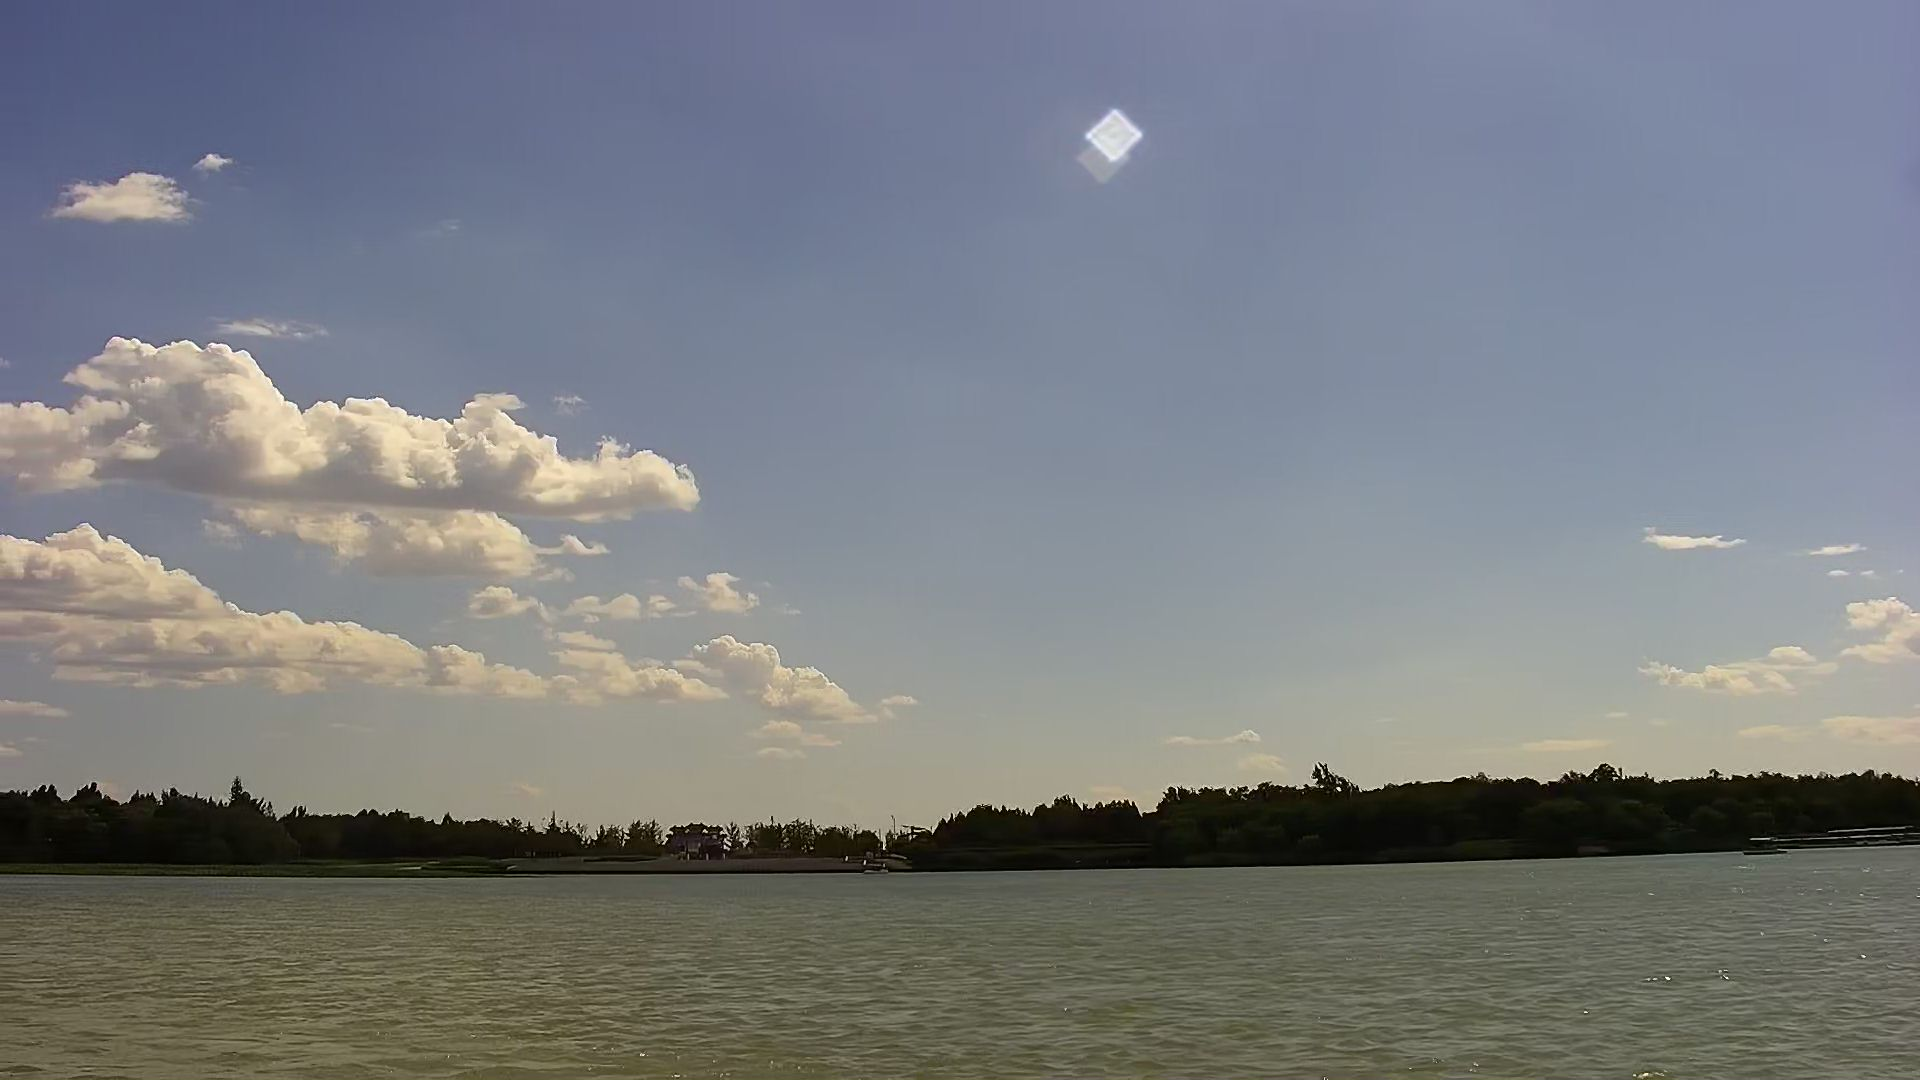boat: (1743, 829, 1775, 855)
harbor: (1785, 824, 1920, 849)
